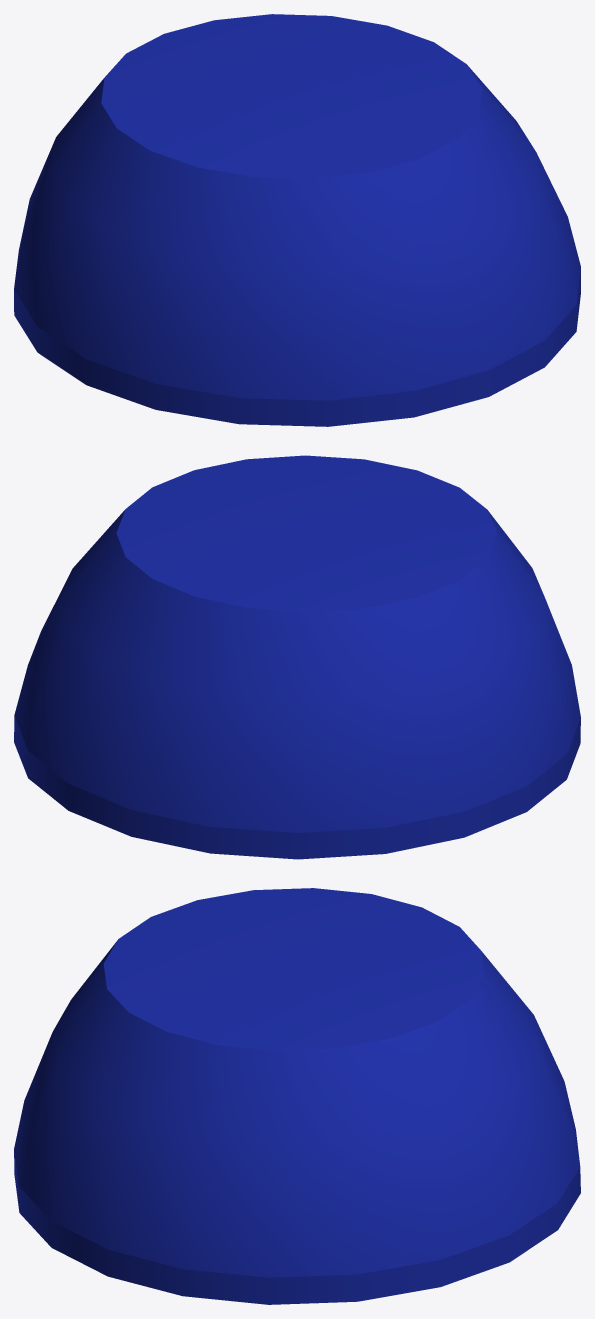
File: base_cercle.fbx
3 renders of one model, top to bottom at view 1: azimuth 30°, elevation 25°; view 2: azimuth 150°, elevation 25°; view 3: azimuth 270°, elevation 25°, orthographic.
Parts seen in each view (by area): view 1: pCylinder59; view 2: pCylinder59; view 3: pCylinder59.
Boxes of the visible parts, x1,y1,x2,y2 form: pCylinder59: (14,14,580,426); pCylinder59: (14,455,580,859); pCylinder59: (14,888,580,1304).
Size of the model in its own units: 1.67 by 0.7316 by 1.67.
